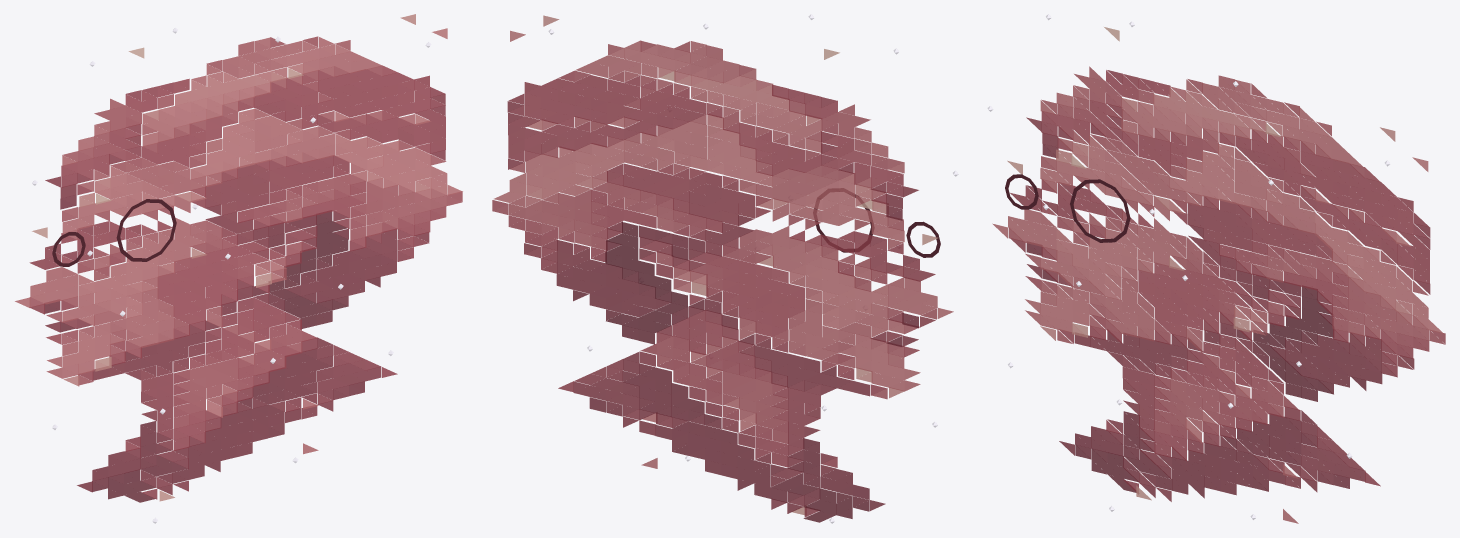
Rendered from nancy-hard.glb.
The picture shows the model from 3 angles, left to right: view 1: azimuth 30°, elevation 25°; view 2: azimuth 150°, elevation 25°; view 3: azimuth 330°, elevation 25°; orthographic projection. The views are drawn at different scales.
Visible parts, largest first — view 1: NancyPortrait_hard; view 2: NancyPortrait_hard; view 3: NancyPortrait_hard.
Boxes of the visible parts, x1,y1,x2,y2 form: NancyPortrait_hard: [15, 14, 462, 523]; NancyPortrait_hard: [492, 14, 958, 523]; NancyPortrait_hard: [987, 14, 1445, 523].
Size of the model in its own units: 1.79 by 1.87 by 0.1078.
